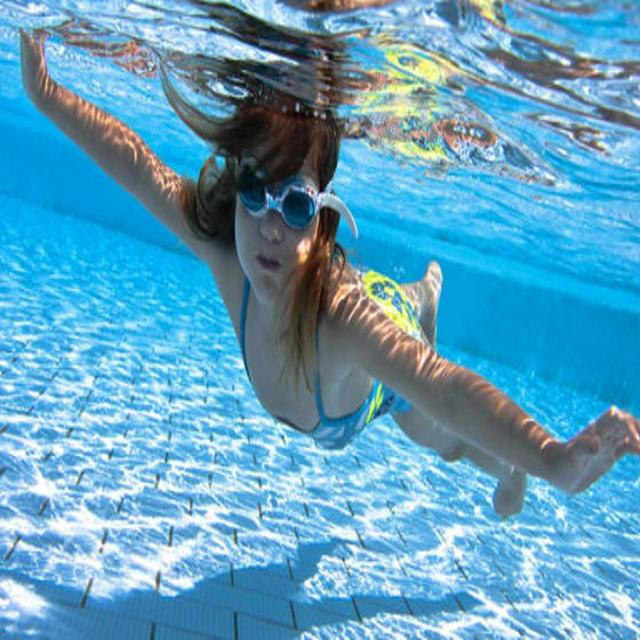nomask: (236, 142, 320, 294)
